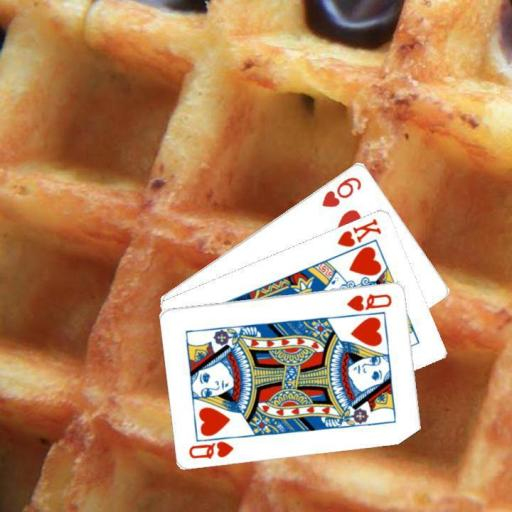card-corner: (334, 215, 384, 248), (318, 173, 364, 208), (186, 432, 240, 460), (344, 290, 394, 313)
